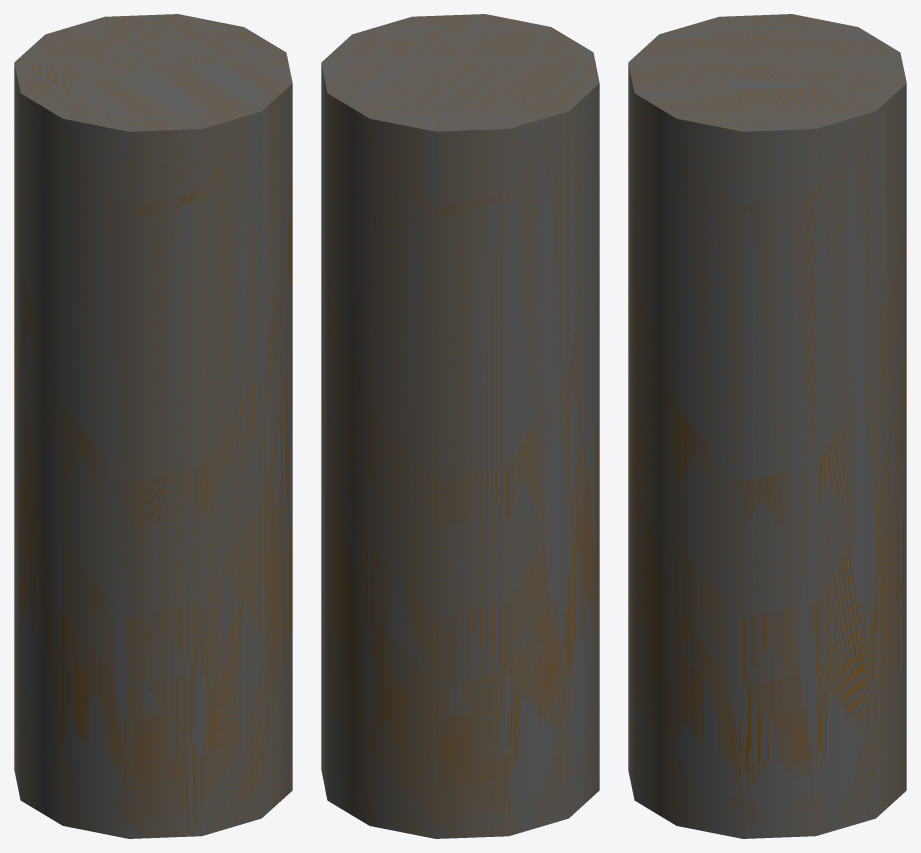
The model's file is original-19.obj.
3 views of the same model, side by side, from view 1: azimuth 30°, elevation 25°; view 2: azimuth 150°, elevation 25°; view 3: azimuth 270°, elevation 25° (orthographic).
Parts seen in each view (by area): view 1: mesh31/mesh31-geometry#mesh31-geometry; view 2: mesh31/mesh31-geometry#mesh31-geometry; view 3: mesh31/mesh31-geometry#mesh31-geometry.
Part boxes in pixels (x1=…): mesh31/mesh31-geometry#mesh31-geometry: x1=14, y1=14, x2=292, y2=838; mesh31/mesh31-geometry#mesh31-geometry: x1=321, y1=14, x2=599, y2=838; mesh31/mesh31-geometry#mesh31-geometry: x1=628, y1=14, x2=906, y2=838.
Size of the model in its own units: 0.0451 by 0.1262 by 0.0451.
